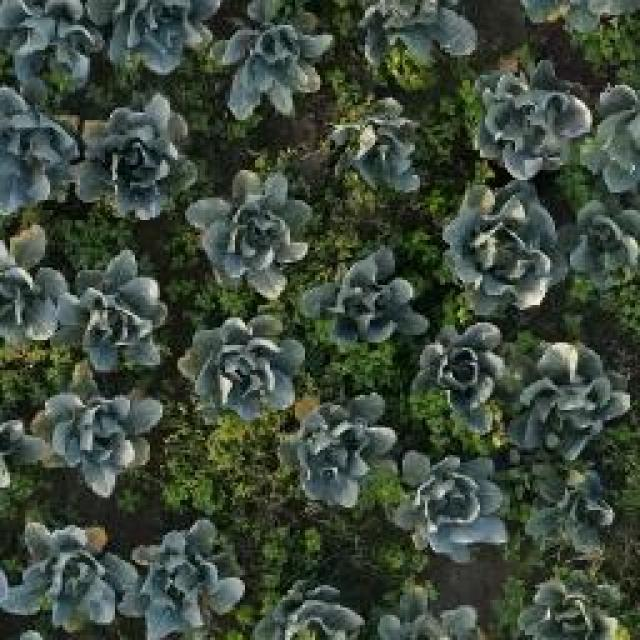cabbage: (122, 515, 232, 633), (518, 335, 628, 453), (37, 376, 146, 483), (451, 190, 554, 300), (81, 108, 188, 208), (306, 258, 413, 346), (220, 6, 318, 102), (68, 264, 166, 360), (19, 528, 120, 619), (202, 182, 296, 275), (486, 86, 584, 174), (424, 331, 511, 430), (186, 318, 284, 402), (406, 461, 498, 550), (296, 406, 390, 493), (528, 464, 615, 554), (334, 103, 424, 185), (105, 0, 203, 63), (570, 198, 640, 278)
